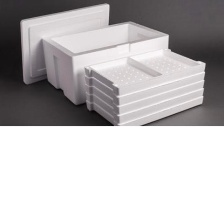foam_box: (37, 18, 172, 108), (80, 45, 209, 125), (16, 0, 113, 86)
